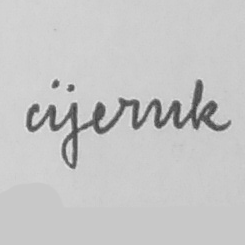c: (22, 100, 42, 135)
e: (87, 97, 113, 137)
i: (43, 78, 62, 133)
j: (60, 82, 81, 172)
k: (187, 77, 228, 133)
r: (115, 94, 143, 132)
u: (152, 96, 182, 132)
